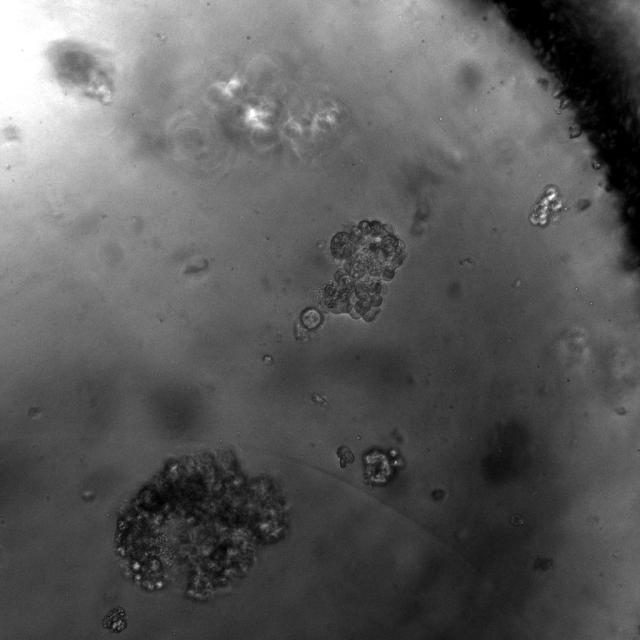organoid: (115, 450, 288, 601), (208, 58, 346, 160), (318, 219, 406, 321), (46, 39, 115, 104), (362, 447, 405, 487), (529, 185, 563, 226), (295, 306, 324, 341), (102, 607, 127, 632), (336, 446, 354, 468)
